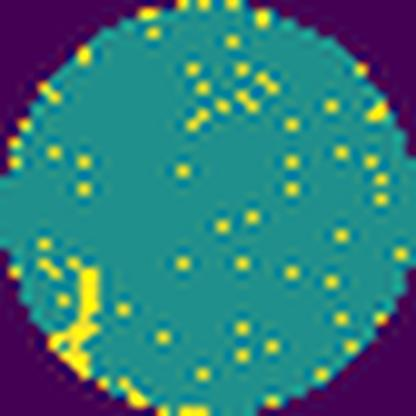Scratch: (46, 254, 104, 380)
